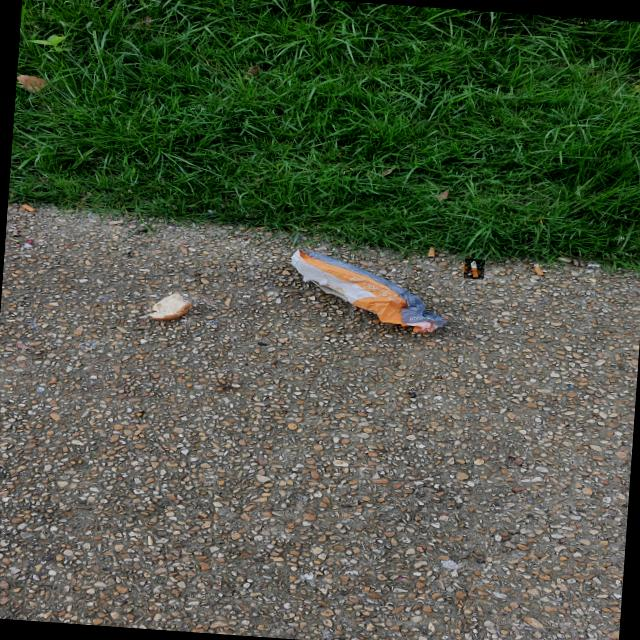Cigarette: (464, 258, 484, 279)
Food waste: (144, 289, 198, 325)
